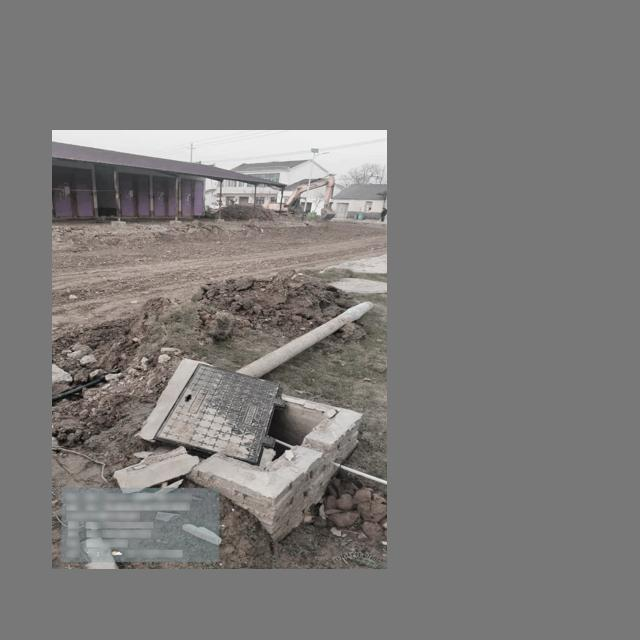circle: (121, 357, 347, 488)
